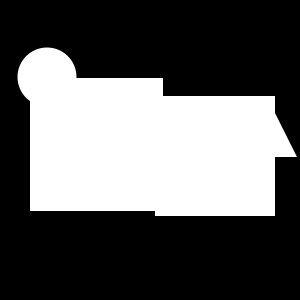circle: (30, 78, 163, 211), (155, 96, 275, 216)
rectangle: (18, 48, 76, 106)
triangle: (154, 105, 220, 171), (242, 102, 297, 157)
